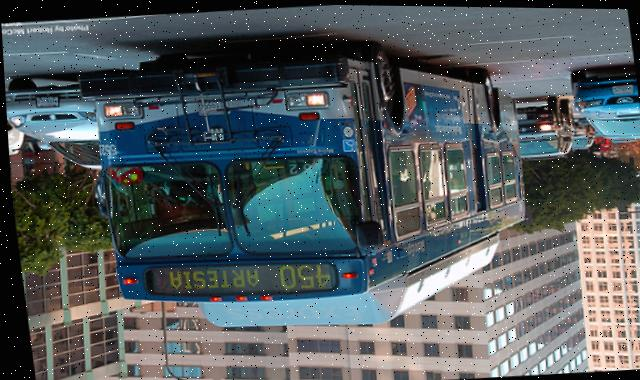bus: (82, 29, 541, 348)
car: (3, 64, 107, 178), (559, 56, 640, 140), (503, 93, 574, 160)
